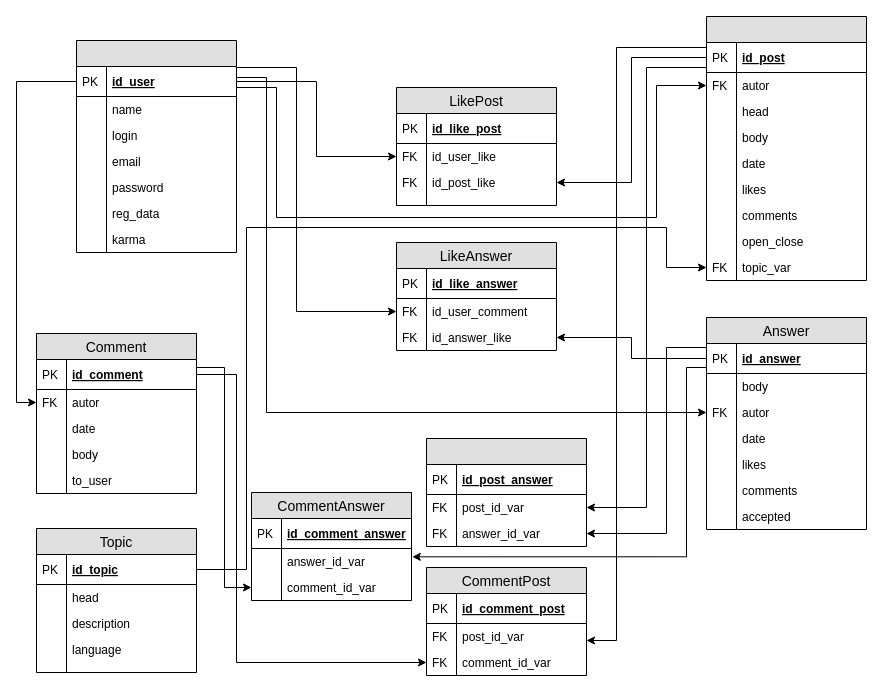
Image size: 883x692. Some labels were removed from this diagram. The box of each missing label's shape, as (x1, y1, x2, y2) in pixels:
PostAnswers: (426, 438, 586, 546)
PostFrame: (706, 16, 866, 280)
UserForum: (76, 40, 236, 252)
